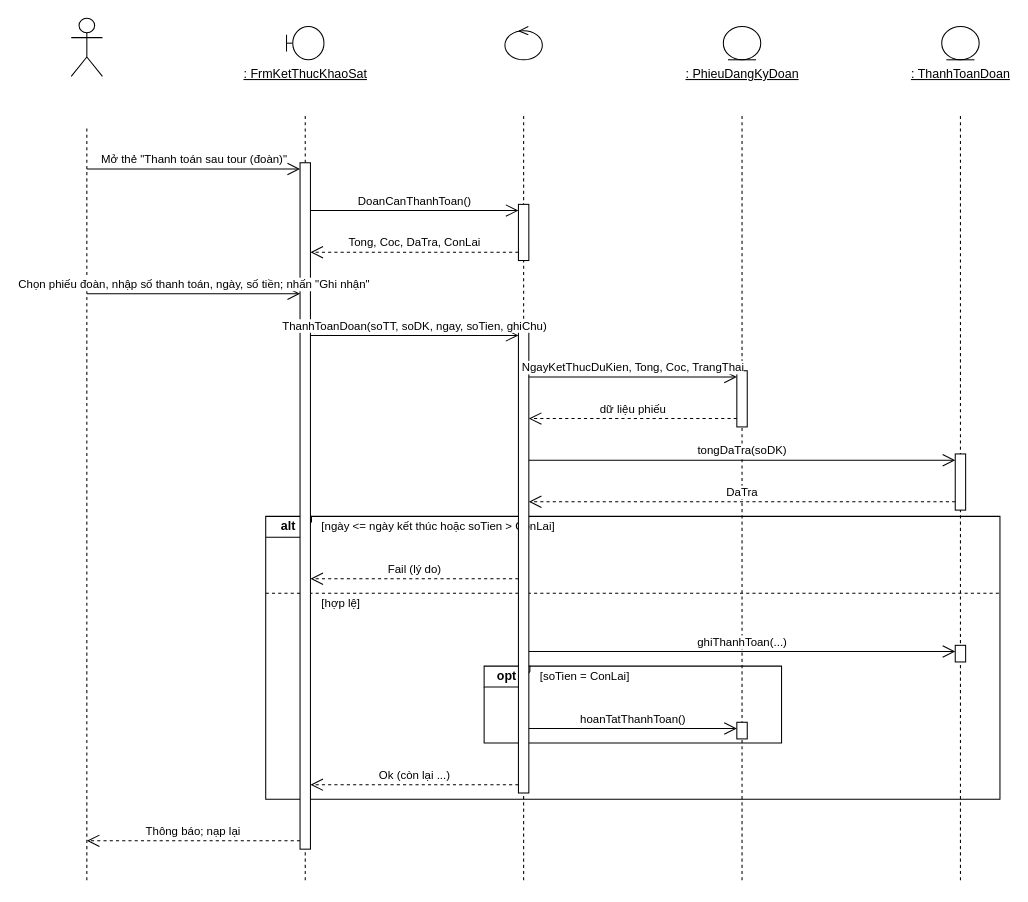
The diagram is 1028 pixels wide and 902 high, and some of its shapes have lost their labels. Here are the shapes that lost their labels. From the top down, the box of each, then its label:
(70, 17, 102, 76): : Kế toán
(504, 25, 542, 60): : KetThucService
